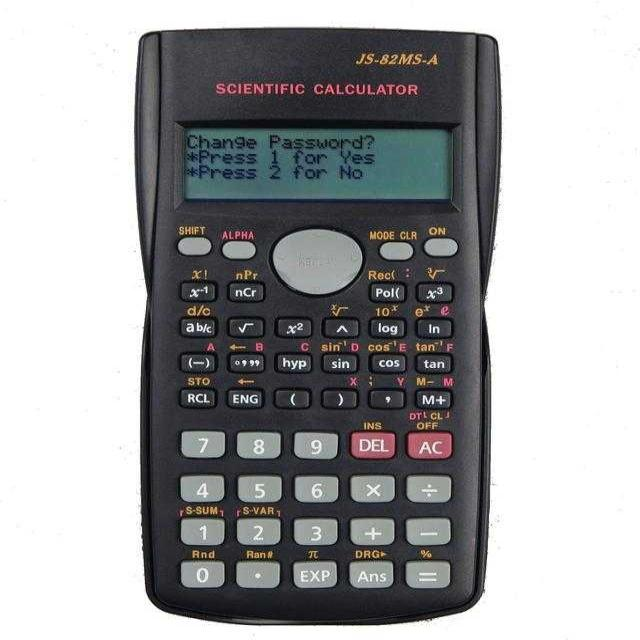Calculator: (133, 26, 502, 626)
